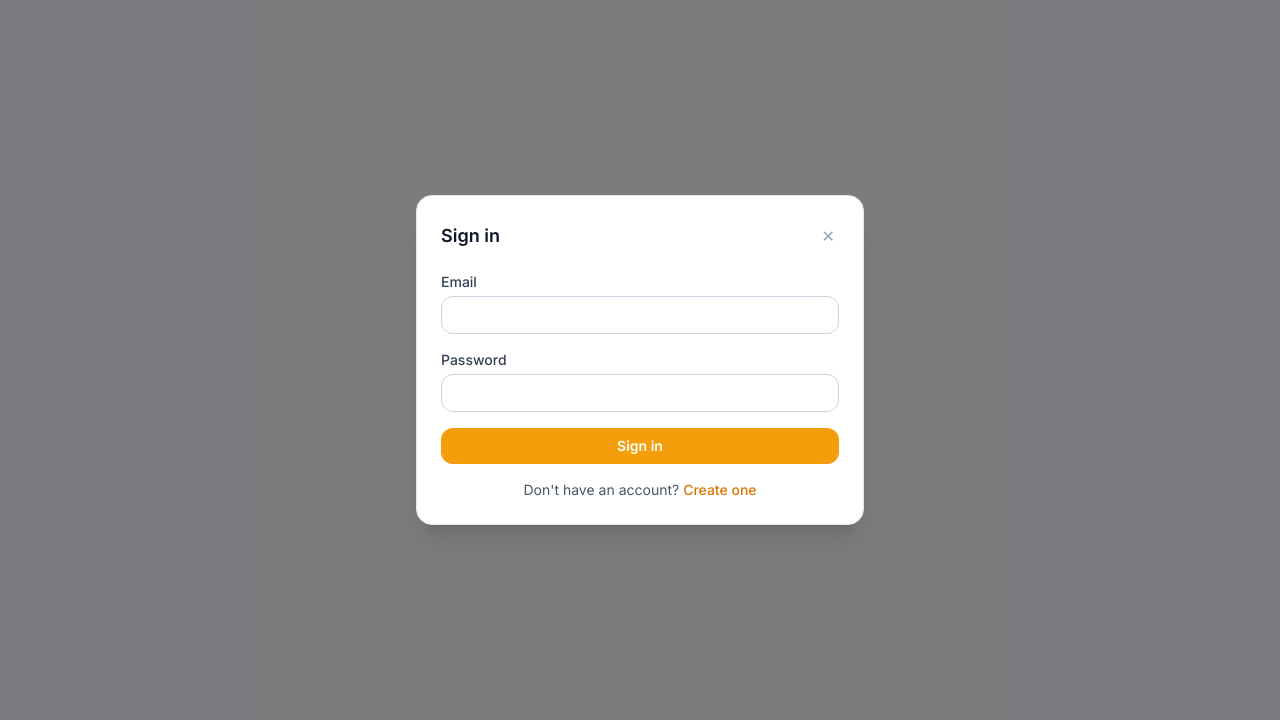
AuthModal › shows a success message after sign-up instead of closing
The image size is (1280, 720).
# Switch to sign-up mode
Click the button "Create one" at (720, 490), box x1=683 y1=480 x2=756 y2=500
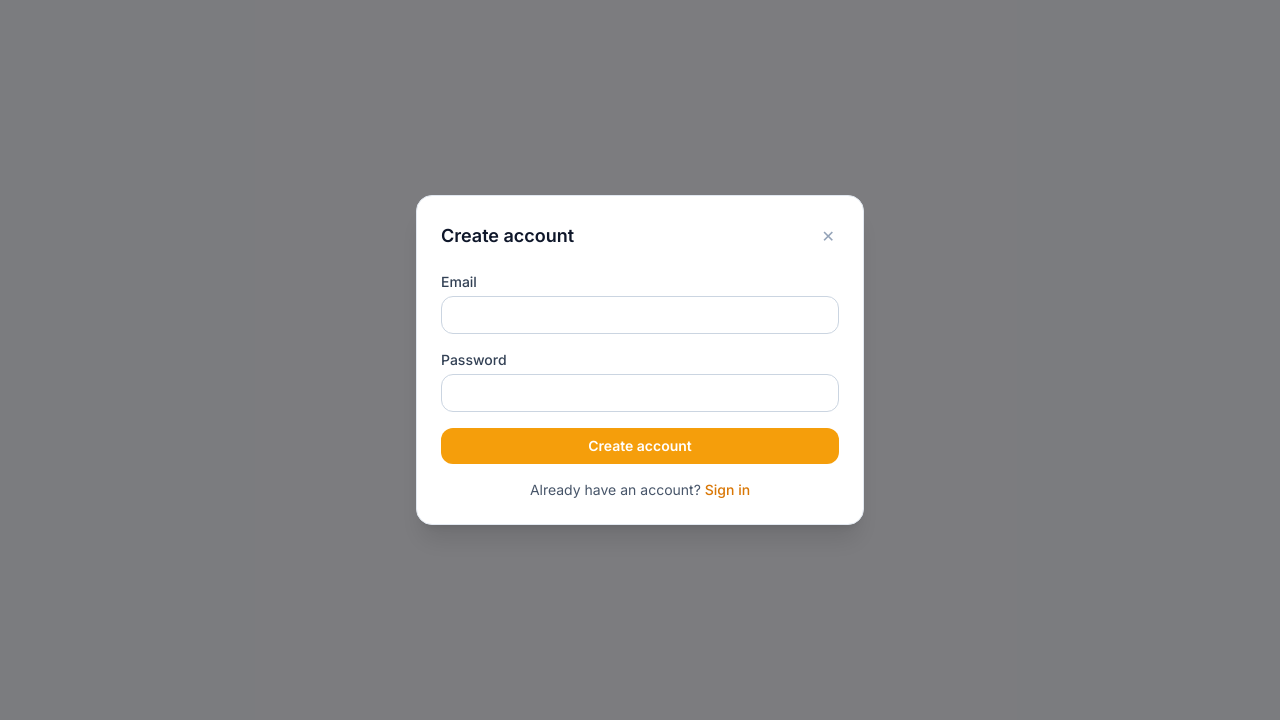
Type "new@user.com" into the field labelled "Email" at (640, 315), box x1=441 y1=296 x2=839 y2=334
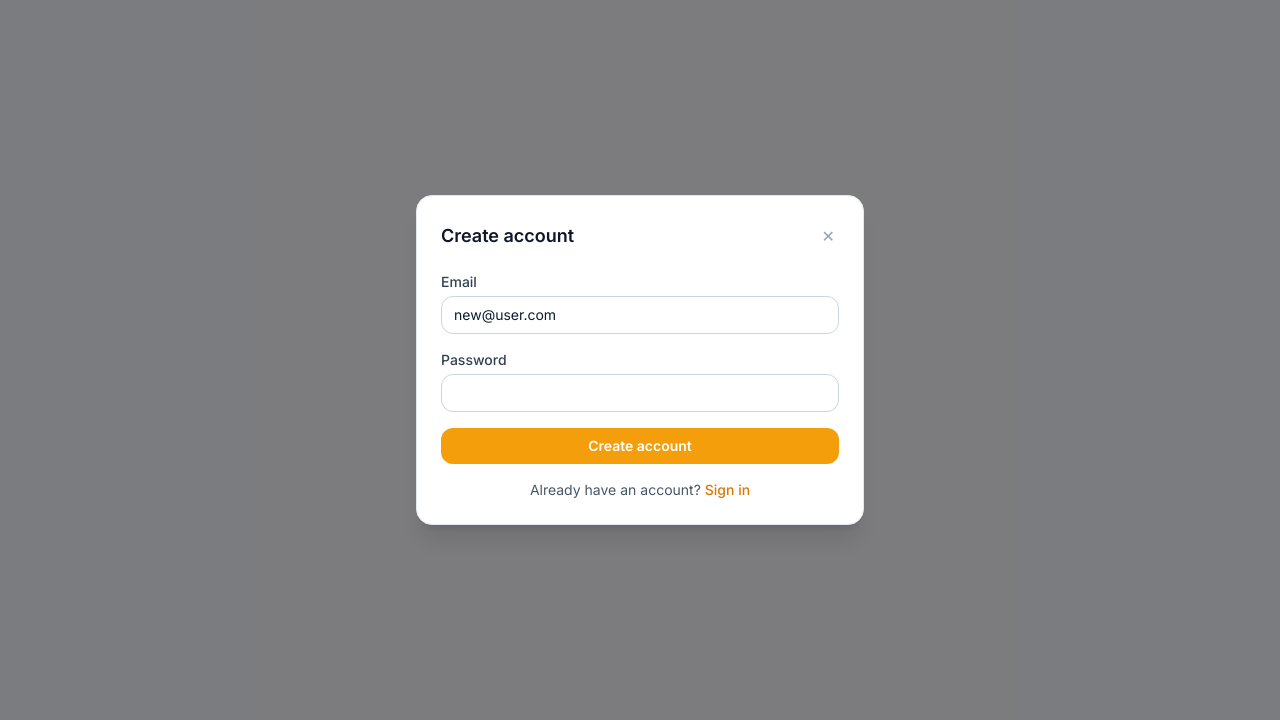
Type "newpass" into the password field labelled "Password" at (640, 393), box x1=441 y1=374 x2=839 y2=412
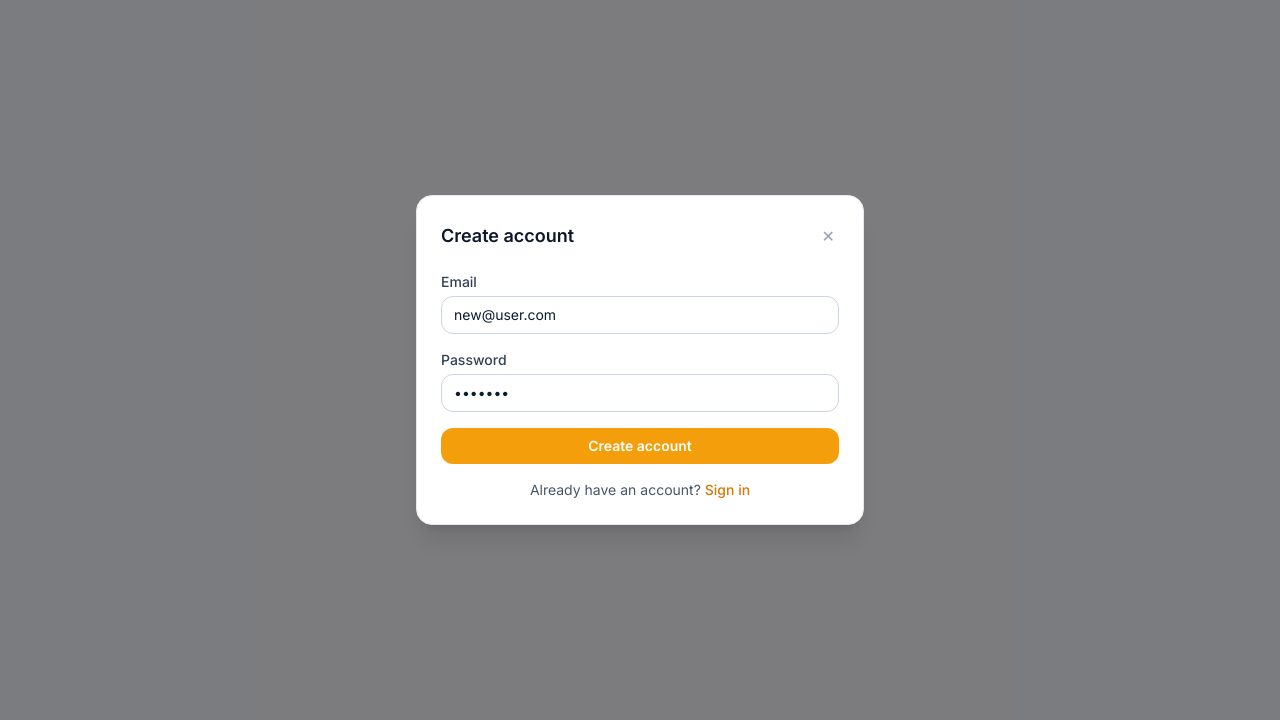
Submit the form "Create account", box x1=441 y1=272 x2=839 y2=464
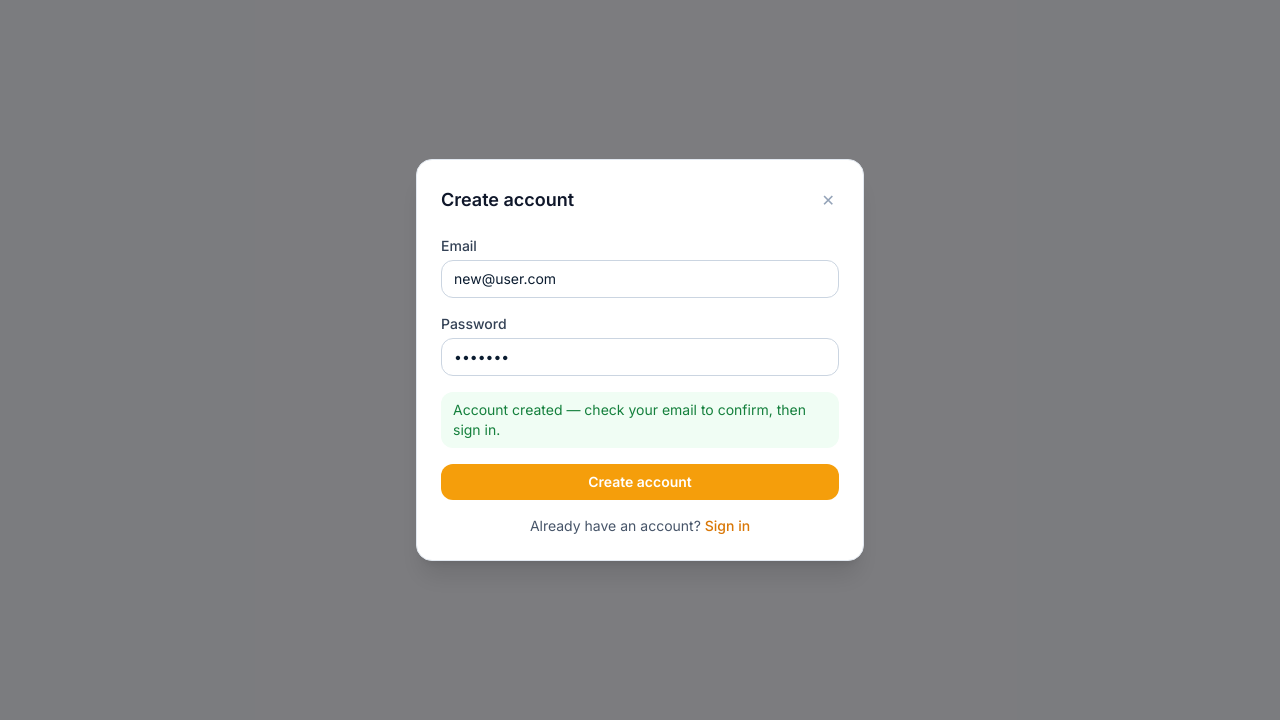
Check: the message shows "check your email", box x1=453 y1=401 x2=806 y2=438
